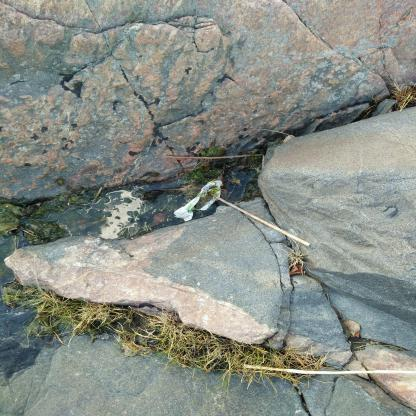plastik: (175, 181, 224, 224)
